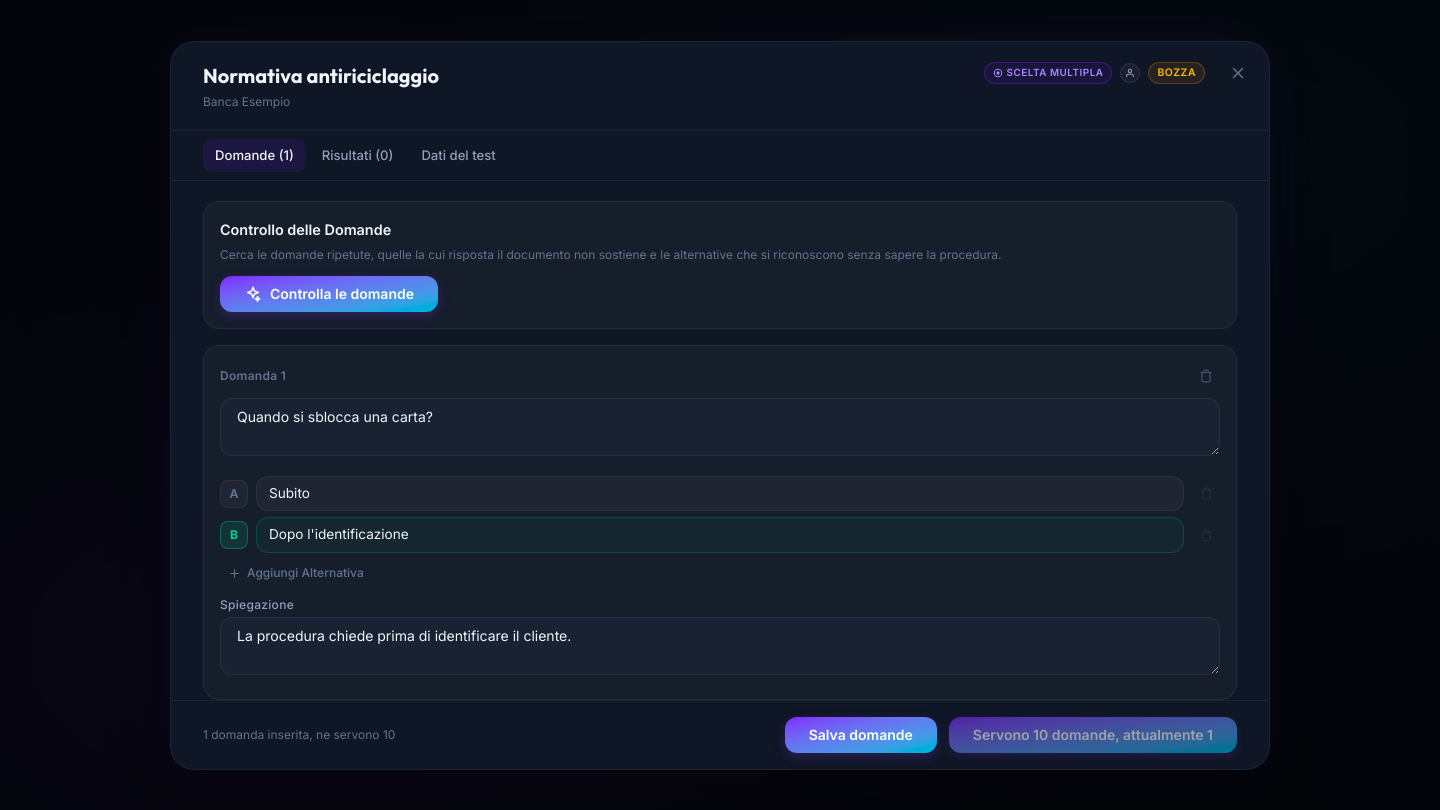
Test: SimulationEditorModal › apre i dati del test accanto alle domande
Click the tab "Dati del test". click: (459, 155)
box: [409,138,508,172]
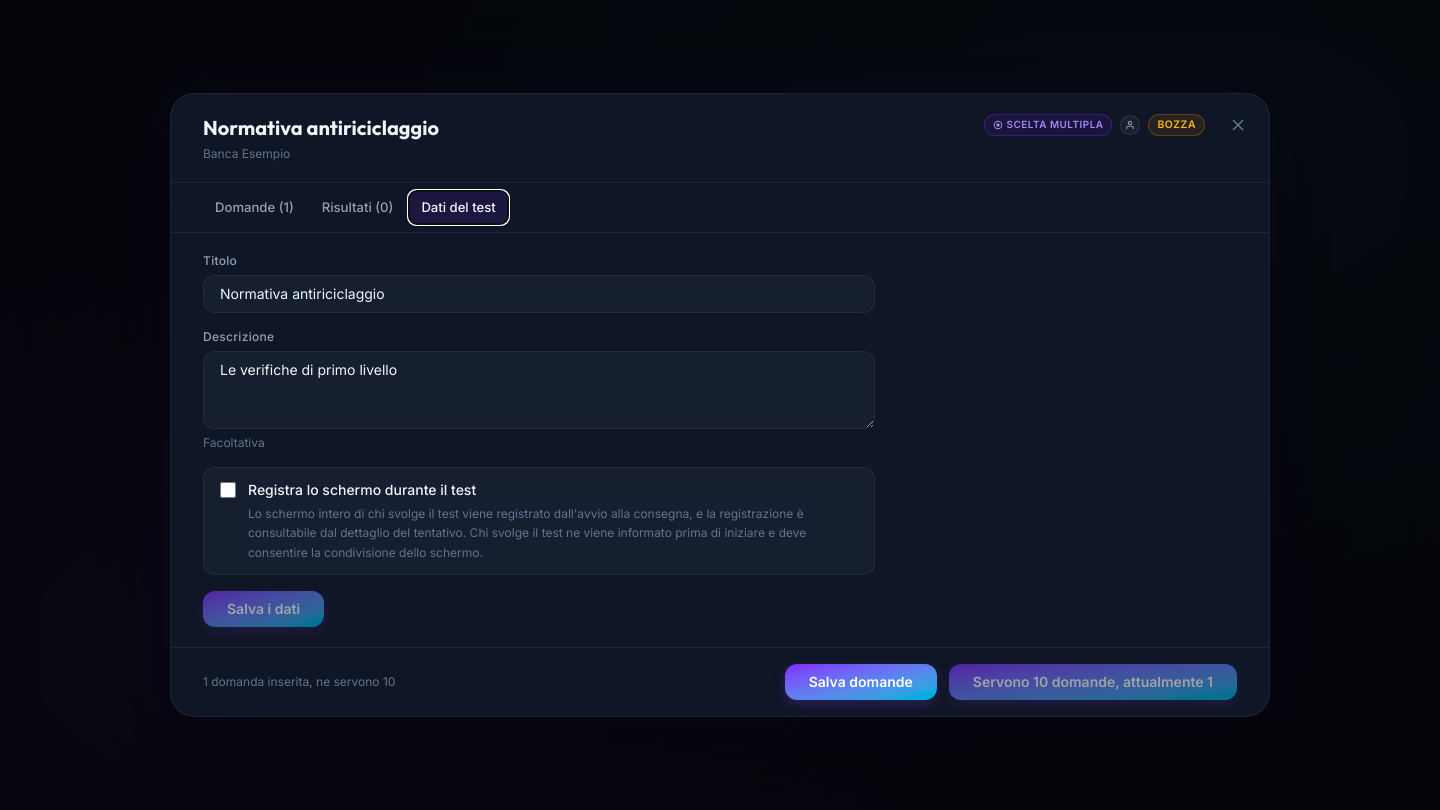
Check: the field labelled "Titolo" holds "Normativa antiriciclaggio", box [220,276,858,312]
Check: the text box labelled "Descrizione" holds "Le verifiche di primo livello", box [203,351,875,429]
